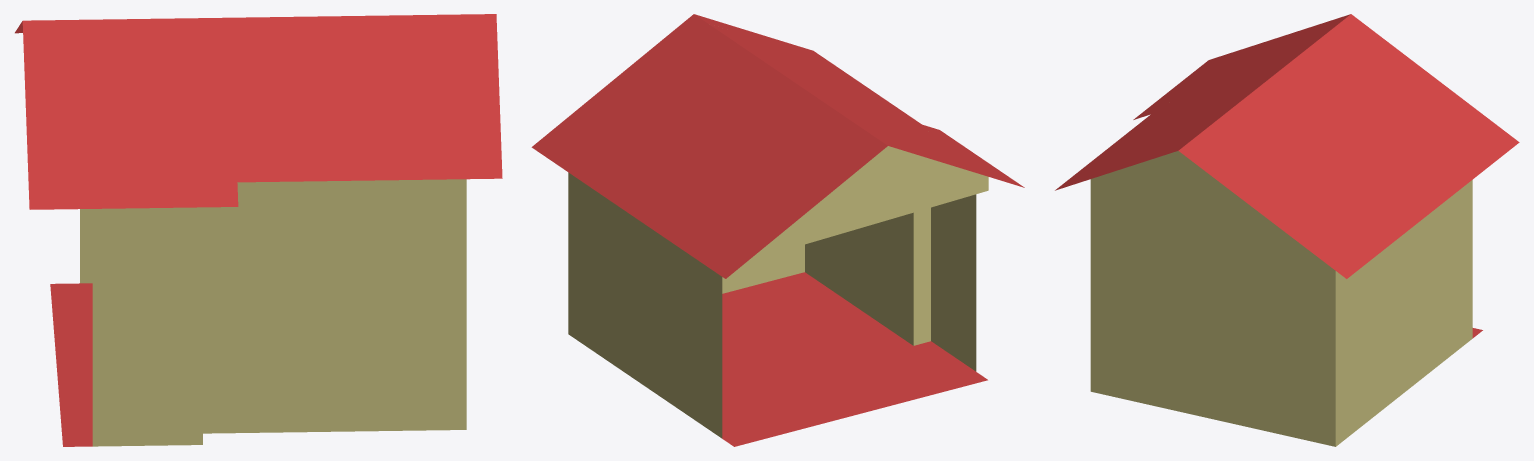
The picture shows the model from 3 angles, left to right: view 1: azimuth 30°, elevation 25°; view 2: azimuth 150°, elevation 25°; view 3: azimuth 270°, elevation 25°; orthographic projection. The views are drawn at different scales.
Parts seen in each view (by area): view 1: group_5, group_3, group_6, group_4; view 2: group_3, group_5, group_6, group_4; view 3: group_5, group_3, group_4.
Boxes of the visible parts, x1=… form: group_5: x1=80, y1=179, x2=466, y2=446; group_3: x1=22, y1=14, x2=502, y2=209; group_6: x1=50, y1=283, x2=92, y2=446; group_4: x1=15, y1=14, x2=501, y2=205; group_3: x1=531, y1=14, x2=1024, y2=278; group_5: x1=568, y1=146, x2=988, y2=438; group_6: x1=722, y1=272, x2=987, y2=446; group_4: x1=694, y1=14, x2=946, y2=146; group_5: x1=1090, y1=151, x2=1472, y2=446; group_3: x1=1055, y1=14, x2=1519, y2=278; group_4: x1=1112, y1=14, x2=1350, y2=166.
Size of the model in its own units: 18.27 by 17.36 by 11.26.
